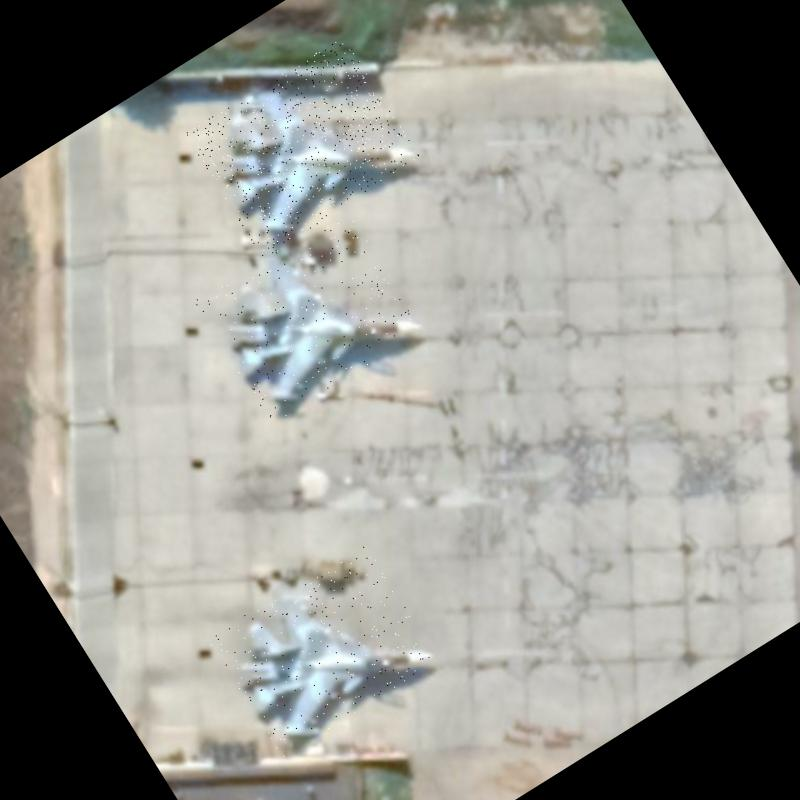A19: (185, 34, 420, 257), (206, 540, 439, 760), (193, 205, 424, 425)
